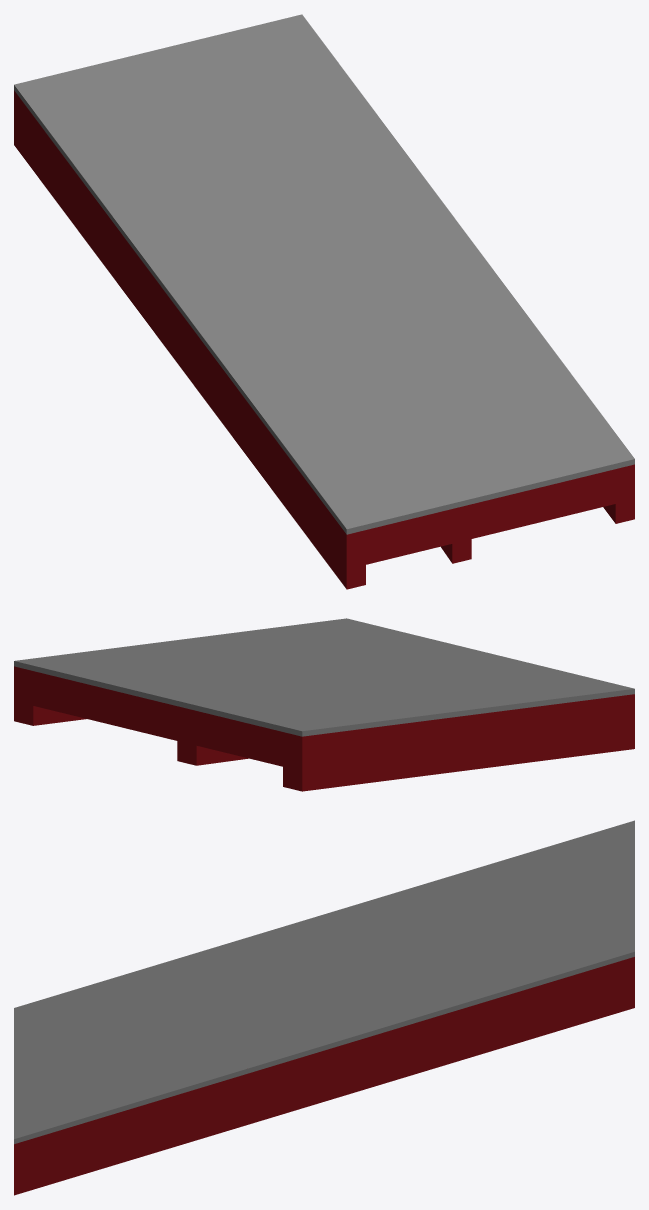
Rendered from SM_MH_01_Slate_Porch_Roof_Half_01.fbx.
3 renders of one model, top to bottom at view 1: azimuth 30°, elevation 25°; view 2: azimuth 150°, elevation 25°; view 3: azimuth 270°, elevation 25°, orthographic. The views are drawn at different scales.
Visible parts, largest first — view 1: SM_MH_01_Slate_Porch_Roof_Half_01_LOD0; view 2: SM_MH_01_Slate_Porch_Roof_Half_01_LOD0; view 3: SM_MH_01_Slate_Porch_Roof_Half_01_LOD0.
Boxes of the visible parts, box(x1,y1,x2,y2) form: SM_MH_01_Slate_Porch_Roof_Half_01_LOD0: box(14, 14, 634, 589); SM_MH_01_Slate_Porch_Roof_Half_01_LOD0: box(14, 618, 634, 791); SM_MH_01_Slate_Porch_Roof_Half_01_LOD0: box(14, 820, 634, 1195).
Size of what is drawn, in the model's own units: 150 by 130 by 300.
